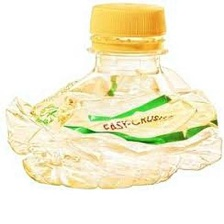bottle: (0, 0, 224, 192)
